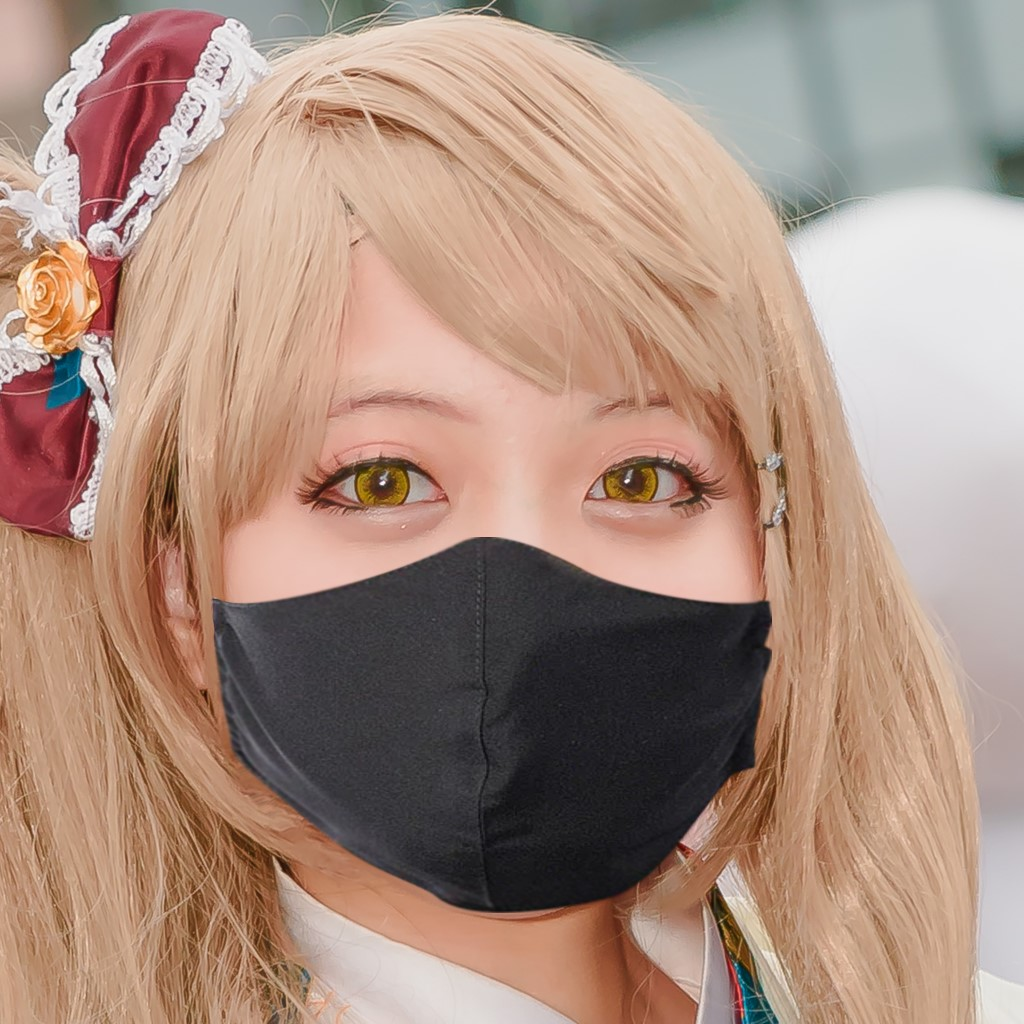con_mascara: (158, 160, 785, 928)
